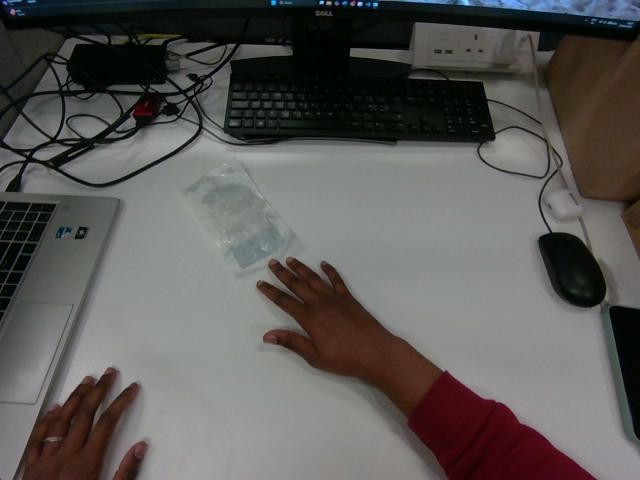gallipot: (183, 162, 293, 275)
